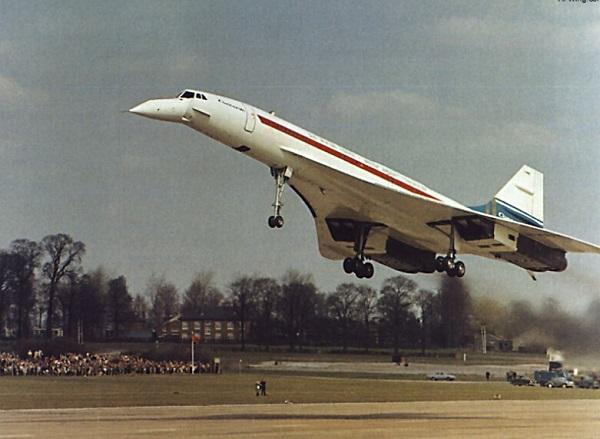airplane: (122, 82, 600, 282)
